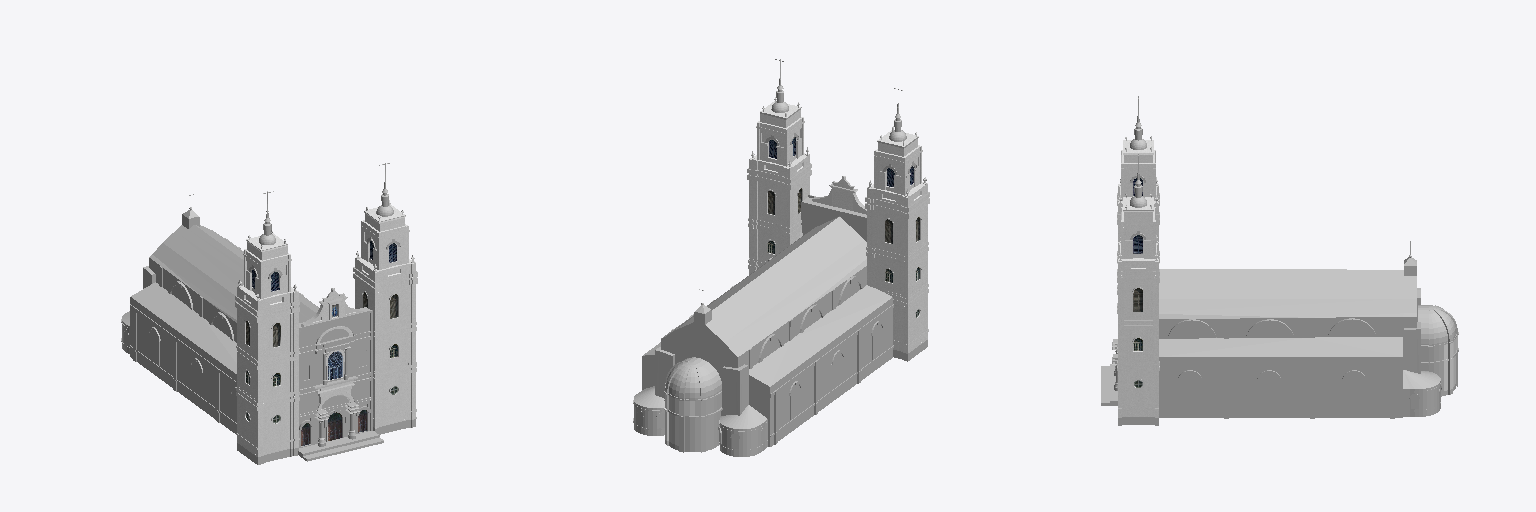
3 views of the same model, side by side, from view 1: azimuth 30°, elevation 25°; view 2: azimuth 150°, elevation 25°; view 3: azimuth 270°, elevation 25° (orthographic).
Parts seen in each view (by area): view 1: Cube, Sphere.002, Sphere, Cube.001_Cube.002, Plane_Plane.001, Circle.002_Circle; view 2: Cube, Sphere.002, Sphere, Sphere.001, Cube.001_Cube.002; view 3: Cube, Sphere, Sphere.001, Sphere.002.
Part boxes in pixels (x1,y1,x2,y2): Cube: (121,194,383,461); Sphere.002: (235,191,299,464); Sphere: (353,163,417,434); Cube.001_Cube.002: (319,288,347,320); Plane_Plane.001: (312,376,357,403); Circle.002_Circle: (324,410,345,441); Cube: (633,195,893,456); Sphere.002: (865,88,929,361); Sphere: (747,59,811,274); Sphere.001: (664,357,722,452); Cube.001_Cube.002: (829,176,857,210); Cube: (1101,241,1441,418); Sphere: (1117,154,1159,425); Sphere.001: (1418,305,1458,396); Sphere.002: (1117,96,1159,313).
Size of the model in its own units: 20.9 by 32.42 by 40.24.
24 materials, 8 textured.